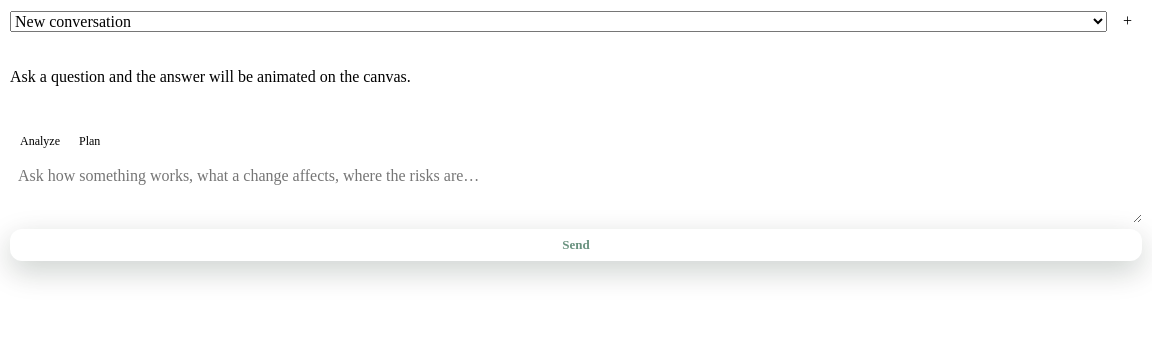
Test case: ChatPanel › shows stream errors
Replace the text in the 2nd text box with test id "chat-input" with "hi" at (576, 191), box [10,159,1142,223]
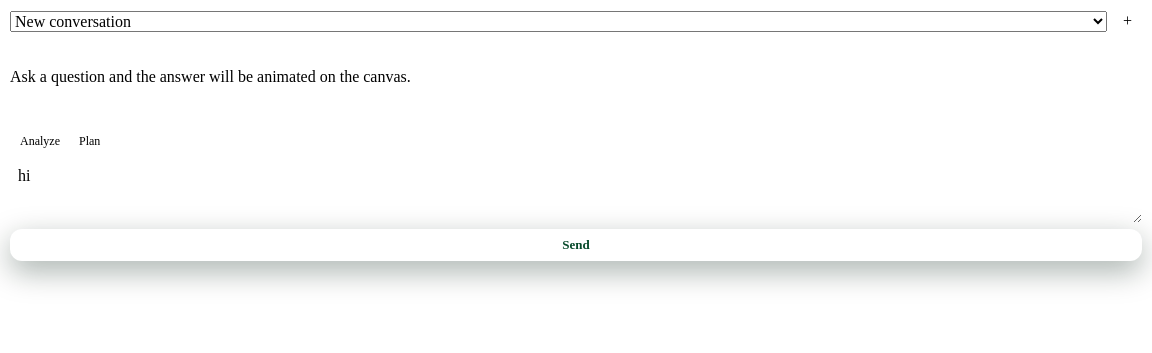
Click the button with test id "chat-send" at (576, 245), box [10,229,1142,261]
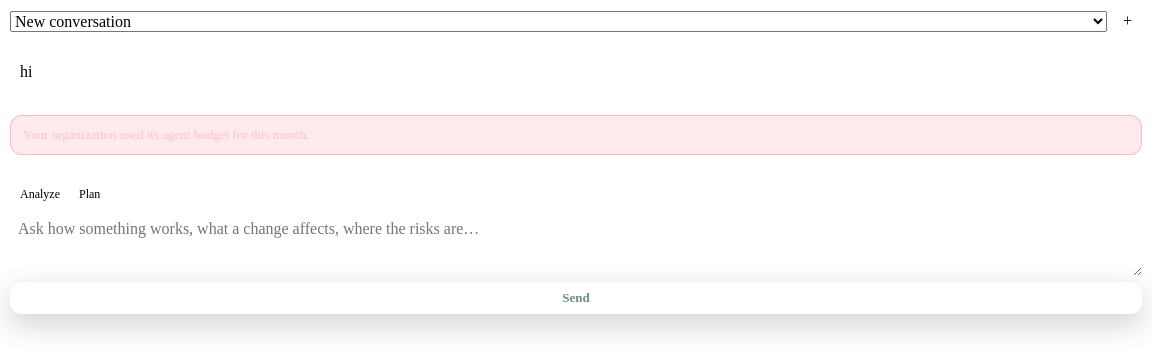
Expected: the message with test id "chat-error" shows "agent budget", [23,127,309,142]
